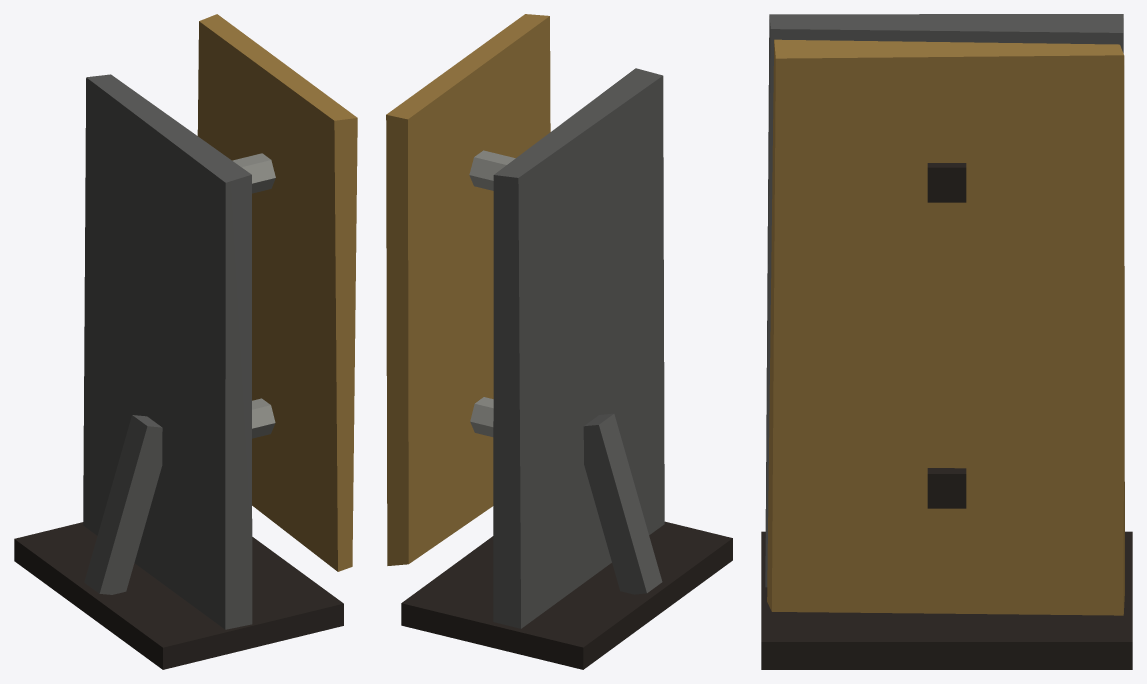
Rendered from arm_spaced_tile.glb.
The picture shows the model from 3 angles, left to right: view 1: azimuth 30°, elevation 25°; view 2: azimuth 150°, elevation 25°; view 3: azimuth 270°, elevation 25°; orthographic projection. The views are drawn at different scales.
Parts seen in each view (by area): view 1: arm_spaced_tile; view 2: arm_spaced_tile; view 3: arm_spaced_tile.
Part boxes in pixels (bbox=[...]): arm_spaced_tile: bbox=[14, 14, 357, 669]; arm_spaced_tile: bbox=[386, 14, 732, 669]; arm_spaced_tile: bbox=[761, 14, 1132, 669].
Bounding box in the file's own units: 0.39 × 0.9051 × 0.484.
